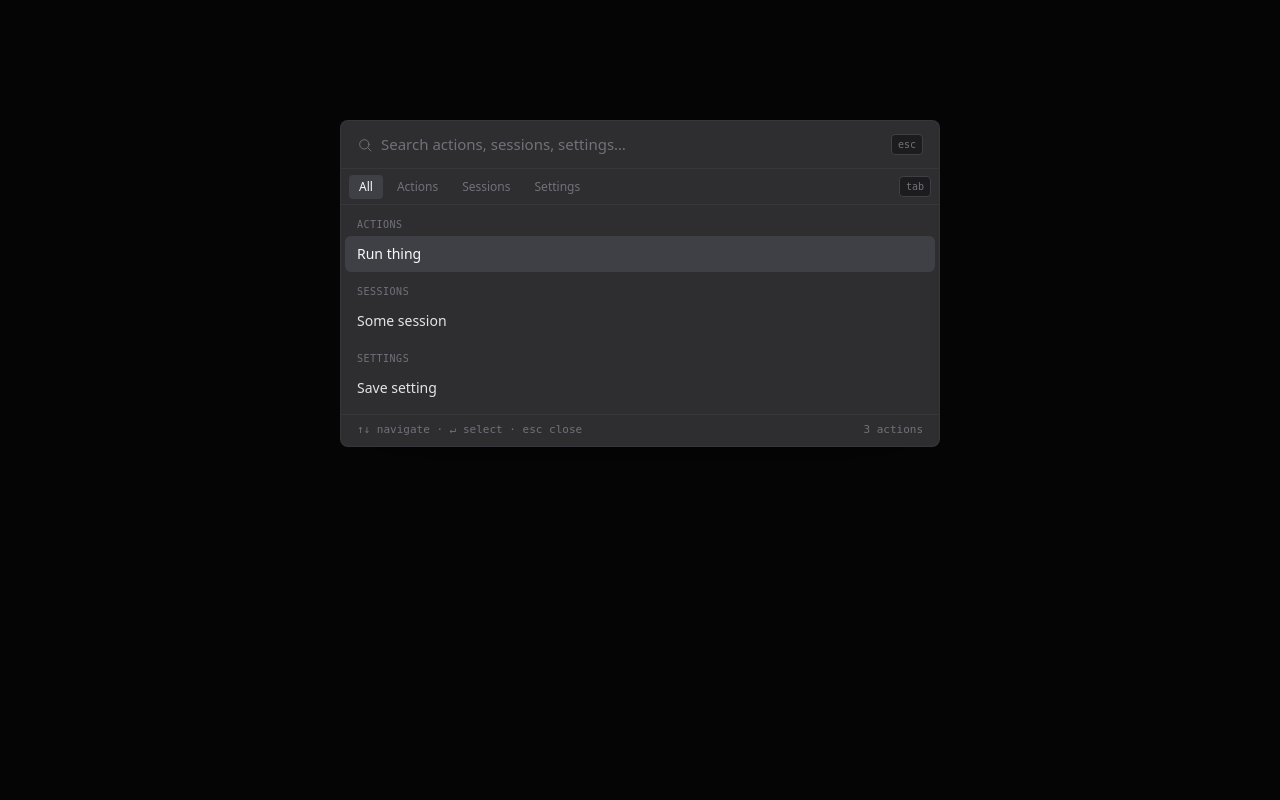
Test: CommandPalette › category tabs › hides the strip and counts only matches when a query leaves one group
In the dropdown with placeholder "Search actions, sessions, settings…": (632, 145) [381,133,883,156], type "setting"
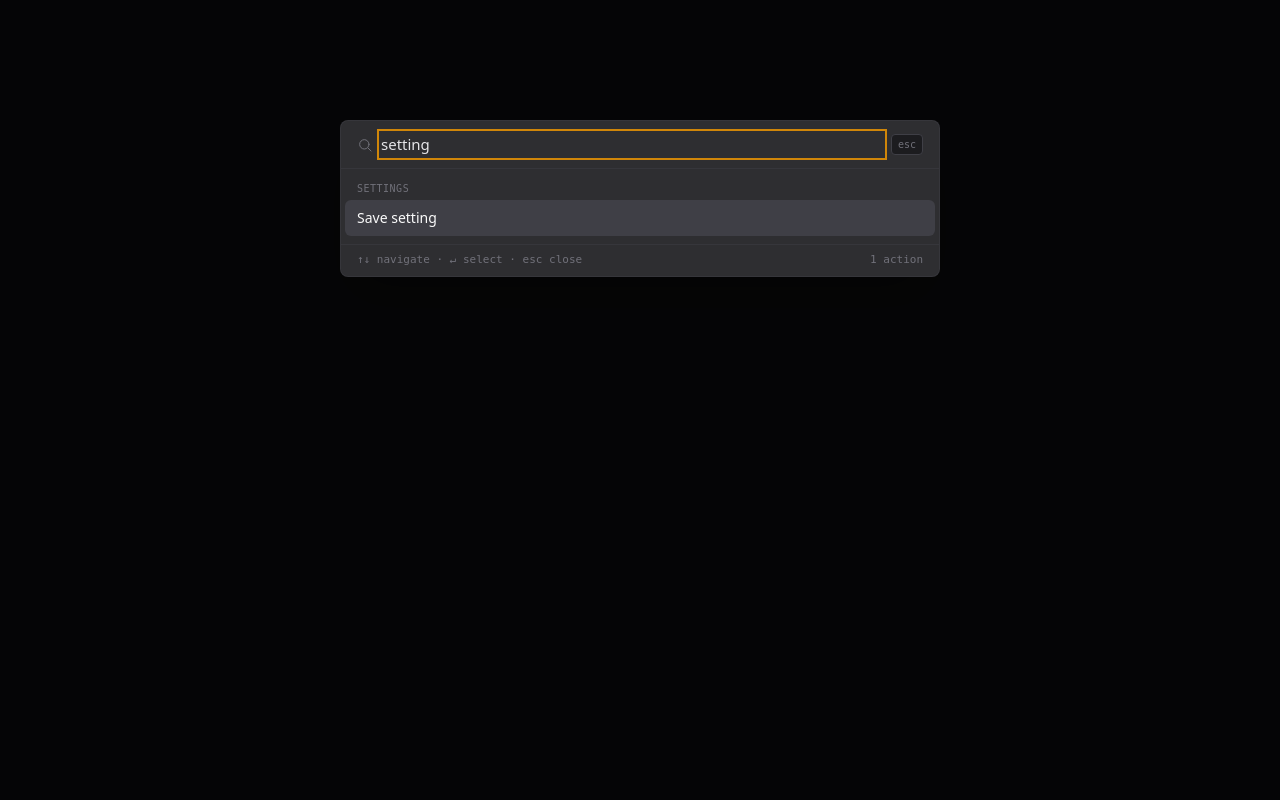
expect the text "1 action" is shown: met, box [870,252,923,269]
expect the option "Run thing" is gone: met
